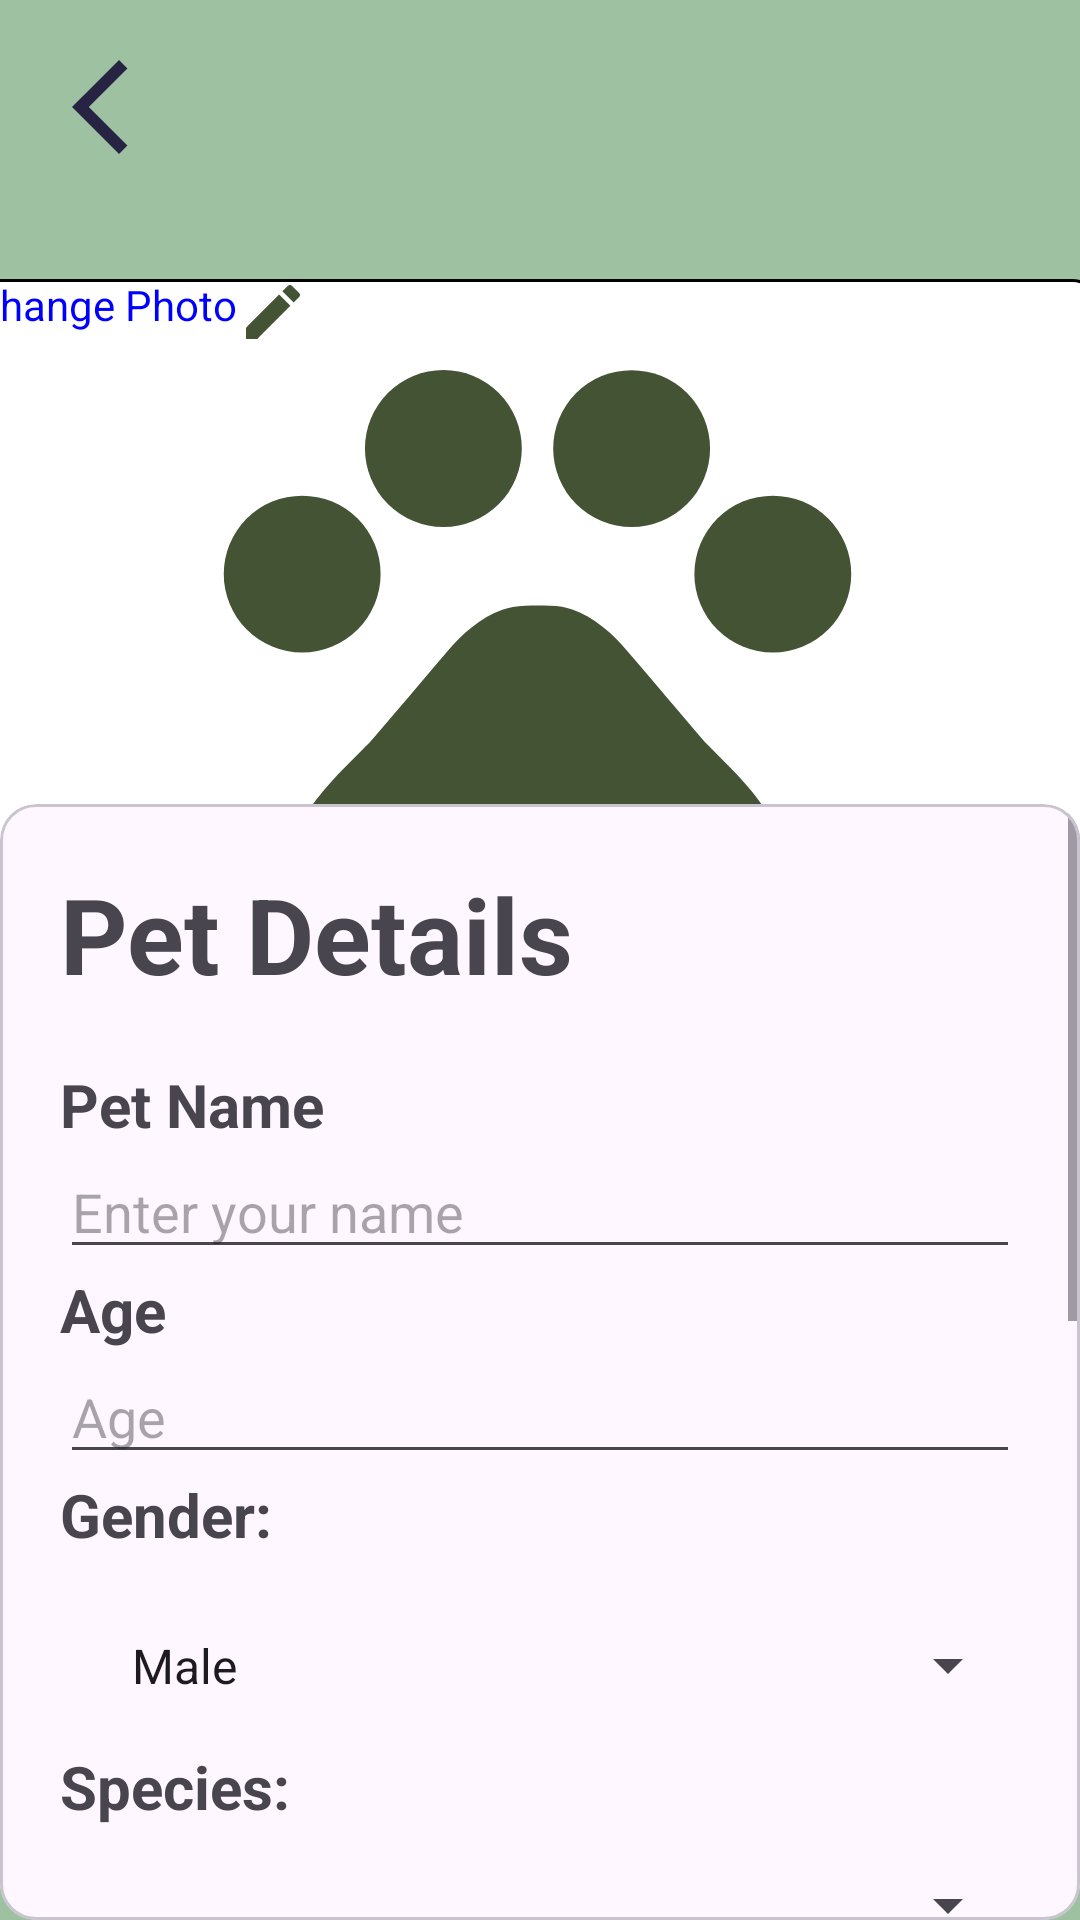

Point at icon controls on the screen. Image size 1080*1920, points as (x=x, y=y).
arrow pet info: (x=100, y=107)
